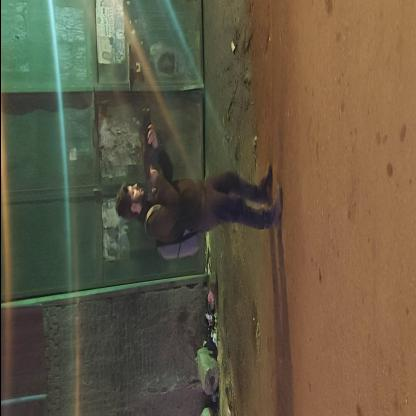long weapon: (130, 92, 161, 207)
